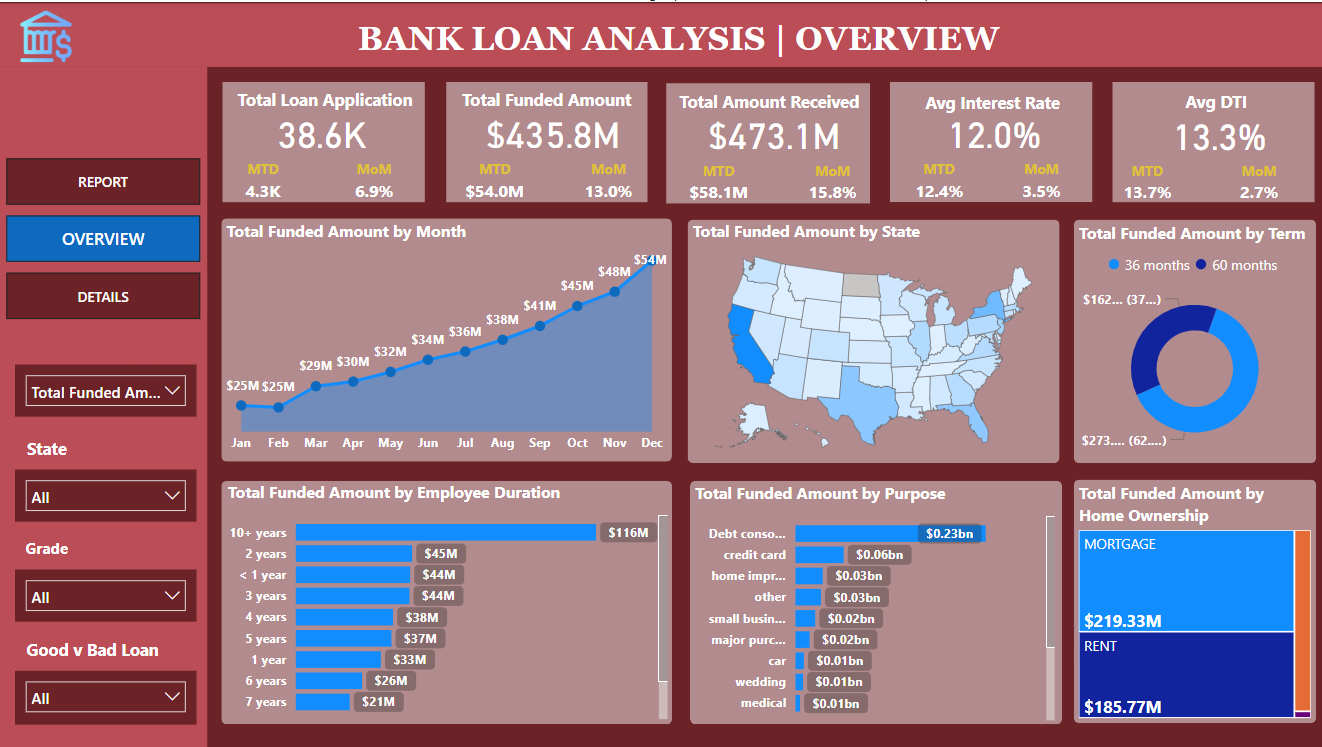

This screenshot's page, from the dashboard's own definition file:
{"tool":"powerbi","page":{"name":"OVERVIEW","canvas":[1280,720],"ordinal":1},"visuals":[{"type":"shape","box":[0,63.1,200.3,657.3],"z":0},{"type":"shape","box":[1073.8,76.7,195,116],"z":0,"group":"g5"},{"type":"shape","box":[215,77.5,195.7,116.2],"z":0,"group":"g1"},{"type":"shape","box":[430.2,77.5,194.2,116],"z":0,"group":"g2"},{"type":"shape","box":[859,77.5,195.5,116],"z":0,"group":"g4"},{"type":"shape","box":[643,77.9,196.7,116],"z":0,"group":"g3"},{"type":"textbox","box":[216.2,78.5,195.4,31.4],"z":1000,"group":"g1"},{"type":"textbox","box":[430.4,78.5,193.6,31.4],"z":1000,"group":"g2"},{"type":"textbox","box":[1096.5,78.5,154.2,32],"z":1000,"group":"g5"},{"type":"textbox","box":[644.1,78.6,196.4,31.4],"z":1000,"group":"g3"},{"type":"textbox","box":[859.8,80.6,195.5,31.8],"z":1000,"group":"g4"},{"type":"shape","box":[214.1,208.9,435,235],"z":1000},{"type":"shape","box":[0,1.2,1280,61.2],"z":2000},{"type":"card","fields":{"Values":["financial_loan.Total Loan Application"]},"box":[226.2,105.5,170.8,41.6],"z":2000,"group":"g1"},{"type":"card","fields":{"Values":["financial_loan.Total Funded Amount"]},"box":[448.6,105.5,170,41],"z":2000,"group":"g2"},{"type":"card","fields":{"Values":["financial_loan.Total Amount Received"]},"box":[662.1,105.5,170,40.8],"z":2000,"group":"g3"},{"type":"card","fields":{"Values":["financial_loan.Avg Interest Rate"]},"box":[875.1,105.5,170,40.8],"z":2000,"group":"g4"},{"type":"card","fields":{"Values":["financial_loan.Avg DTI"]},"box":[1091.4,105.5,170.5,43],"z":2000,"group":"g5"},{"type":"card","title":"MTD","fields":{"Values":["financial_loan.MTD Loan Application"]},"box":[222.1,152.5,63.6,44],"z":3000,"group":"g1"},{"type":"card","title":"MTD","fields":{"Values":["financial_loan.MTD Funded Amount"]},"box":[441.6,152.5,71.8,44],"z":3000,"group":"g2"},{"type":"card","title":"MTD","fields":{"Values":["financial_loan.MTD Total Amount Received"]},"box":[656.9,152.5,72.1,44],"z":3000,"group":"g3"},{"type":"card","title":"MTD","fields":{"Values":["financial_loan.MTD Avg Interest Rate"]},"box":[875.3,152.5,60.9,44],"z":3000,"group":"g4"},{"type":"card","title":"MTD","fields":{"Values":["financial_loan.MTD Avg DTI"]},"box":[1074.1,152.5,67.1,44],"z":3000,"group":"g5"},{"type":"textbox","box":[14.3,609.6,149.6,36.2],"z":3000},{"type":"textbox","box":[340,12.5,643.8,48.8],"z":4000},{"type":"card","title":"MoM","fields":{"Values":["financial_loan.MoM Loan Application"]},"box":[327.9,152.5,65.7,44],"z":4000,"group":"g1"},{"type":"card","title":"MoM","fields":{"Values":["financial_loan.MoM Total Funded Amount"]},"box":[555.5,152.5,62.1,44],"z":4000,"group":"g2"},{"type":"card","title":"MoM","fields":{"Values":["financial_loan.MoM Total Amount Received"]},"box":[771.2,152.5,65,44],"z":4000,"group":"g3"},{"type":"card","title":"MoM","fields":{"Values":["financial_loan.MoM Interest Rate"]},"box":[978.4,152.5,53.3,44],"z":4000,"group":"g4"},{"type":"card","title":"MoM","fields":{"Values":["financial_loan.MoM Avg DTI"]},"box":[1183.4,152.5,63.3,44],"z":4000,"group":"g5"},{"type":"slicer","fields":{"Values":["financial_loan.address_state"]},"box":[14.3,451.6,174.9,50.7],"z":10000},{"type":"textbox","box":[14.3,511.9,61.5,36.2],"z":11000},{"type":"slicer","fields":{"Values":["financial_loan.grade"]},"box":[14.3,548.1,174.9,50.7],"z":12000},{"type":"slicer","fields":{"Values":["financial_loan.Good vs Bad Loan"]},"box":[14.3,645.8,174.9,51.9],"z":13000},{"type":"areaChart","fields":{"Y":["financial_loan.Total Funded Amount"],"Category":["Date Table.Month"]},"box":[213.5,209.9,435.5,234],"z":14000},{"type":"slicer","fields":{"Values":["Select Measure.Select Measure"]},"box":[14.3,350.2,174.9,50.7],"z":15000},{"type":"textbox","box":[14.3,415.4,61.5,36.2],"z":16000},{"type":"shape","box":[663,209.9,359.5,235.3],"z":17000},{"type":"shapeMap","fields":{"Value":["financial_loan.Total Funded Amount"],"Category":["financial_loan.address_state"]},"box":[663.5,209.9,359.5,235.3],"z":18000},{"type":"shape","box":[1036.3,209.9,234,235.3],"z":19000},{"type":"donutChart","fields":{"Y":["financial_loan.Total Funded Amount"],"Category":["financial_loan.term"]},"box":[1036.3,212.3,234,232.8],"z":20000},{"type":"shape","box":[213.5,462.1,435.5,235.3],"z":21000},{"type":"barChart","fields":{"Y":["financial_loan.Total Funded Amount"],"Category":["financial_loan.emp_length"]},"box":[214.7,462.1,434.3,235.3],"z":22000},{"type":"shape","box":[666,462.1,359.5,235.3],"z":23000},{"type":"barChart","fields":{"Y":["financial_loan.Total Funded Amount"],"Category":["financial_loan.purpose"]},"box":[666,463.3,357.1,235.3],"z":24000},{"type":"shape","box":[1036.3,460.9,234,235.3],"z":25000},{"type":"treemap","fields":{"Values":["financial_loan.Total Funded Amount"],"Group":["financial_loan.home_ownership"]},"box":[1036.3,463.3,234,232.8],"z":26000},{"type":"pageNavigator","box":[5.5,150.9,188,157.8],"z":27000},{"type":"image","box":[1.2,3.6,86.9,59.1],"z":28000},{"type":"group","id":"g1","title":"Group 1","box":[215,77.5,196.6,119],"z":28001},{"type":"group","id":"g2","title":"Group 1","box":[430.2,77.5,194.2,119],"z":28002},{"type":"group","id":"g3","title":"Group 1","box":[643,77.9,197.5,118.6],"z":28003},{"type":"group","id":"g4","title":"Group 1","box":[859,77.5,196.2,119],"z":28004},{"type":"group","id":"g5","title":"Group 1","box":[1073.8,76.7,195,119.8],"z":28005}]}

Visuals, with their boxes in screenshot pixels (x1, y1, x2, y2), scaled from the page's 1280x720 canvas onto the 1322x747 screenshot:
shape: bbox(0, 65, 207, 746)
shape: bbox(1109, 80, 1310, 200)
shape: bbox(222, 80, 424, 201)
shape: bbox(444, 80, 645, 201)
shape: bbox(887, 80, 1089, 201)
shape: bbox(664, 81, 867, 201)
textbox: bbox(223, 81, 425, 114)
textbox: bbox(445, 81, 644, 114)
textbox: bbox(1132, 81, 1292, 115)
textbox: bbox(665, 82, 868, 114)
textbox: bbox(888, 84, 1090, 117)
shape: bbox(221, 217, 670, 461)
shape: bbox(0, 1, 1321, 65)
card - financial_loan.Total Loan Application: bbox(234, 109, 410, 153)
card - financial_loan.Total Funded Amount: bbox(463, 109, 639, 152)
card - financial_loan.Total Amount Received: bbox(684, 109, 859, 152)
card - financial_loan.Avg Interest Rate: bbox(904, 109, 1079, 152)
card - financial_loan.Avg DTI: bbox(1127, 109, 1303, 154)
"MTD" card: bbox(229, 158, 295, 204)
"MTD" card: bbox(456, 158, 530, 204)
"MTD" card: bbox(678, 158, 753, 204)
"MTD" card: bbox(904, 158, 967, 204)
"MTD" card: bbox(1109, 158, 1179, 204)
textbox: bbox(15, 632, 169, 670)
textbox: bbox(351, 13, 1016, 64)
"MoM" card: bbox(339, 158, 407, 204)
"MoM" card: bbox(574, 158, 638, 204)
"MoM" card: bbox(797, 158, 864, 204)
"MoM" card: bbox(1011, 158, 1066, 204)
"MoM" card: bbox(1222, 158, 1288, 204)
slicer - financial_loan.address_state: bbox(15, 469, 195, 521)
textbox: bbox(15, 531, 78, 569)
slicer - financial_loan.grade: bbox(15, 569, 195, 621)
slicer - financial_loan.Good vs Bad Loan: bbox(15, 670, 195, 724)
areaChart - financial_loan.Total Funded Amount x Date Table.Month: bbox(221, 218, 670, 461)
slicer - Select Measure.Select Measure: bbox(15, 363, 195, 416)
textbox: bbox(15, 431, 78, 469)
shape: bbox(685, 218, 1056, 462)
shapeMap - financial_loan.Total Funded Amount x financial_loan.address_state: bbox(685, 218, 1057, 462)
shape: bbox(1070, 218, 1312, 462)
donutChart - financial_loan.Total Funded Amount x financial_loan.term: bbox(1070, 220, 1312, 462)
shape: bbox(221, 479, 670, 724)
barChart - financial_loan.Total Funded Amount x financial_loan.emp_length: bbox(222, 479, 670, 724)
shape: bbox(688, 479, 1059, 724)
barChart - financial_loan.Total Funded Amount x financial_loan.purpose: bbox(688, 481, 1057, 725)
shape: bbox(1070, 478, 1312, 722)
treemap - financial_loan.Total Funded Amount x financial_loan.home_ownership: bbox(1070, 481, 1312, 722)
pageNavigator: bbox(6, 157, 200, 320)
image: bbox(1, 4, 91, 65)
"Group 1" group: bbox(222, 80, 425, 204)
"Group 1" group: bbox(444, 80, 645, 204)
"Group 1" group: bbox(664, 81, 868, 204)
"Group 1" group: bbox(887, 80, 1090, 204)
"Group 1" group: bbox(1109, 80, 1310, 204)
